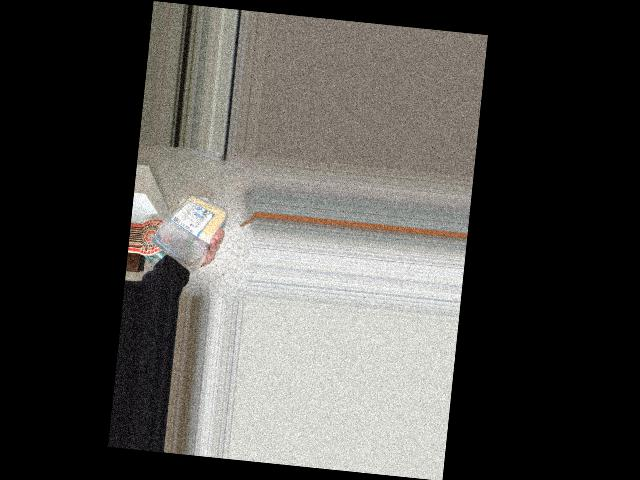cheese: (148, 185, 221, 265)
